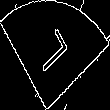L_SW: (34, 28, 76, 82)
